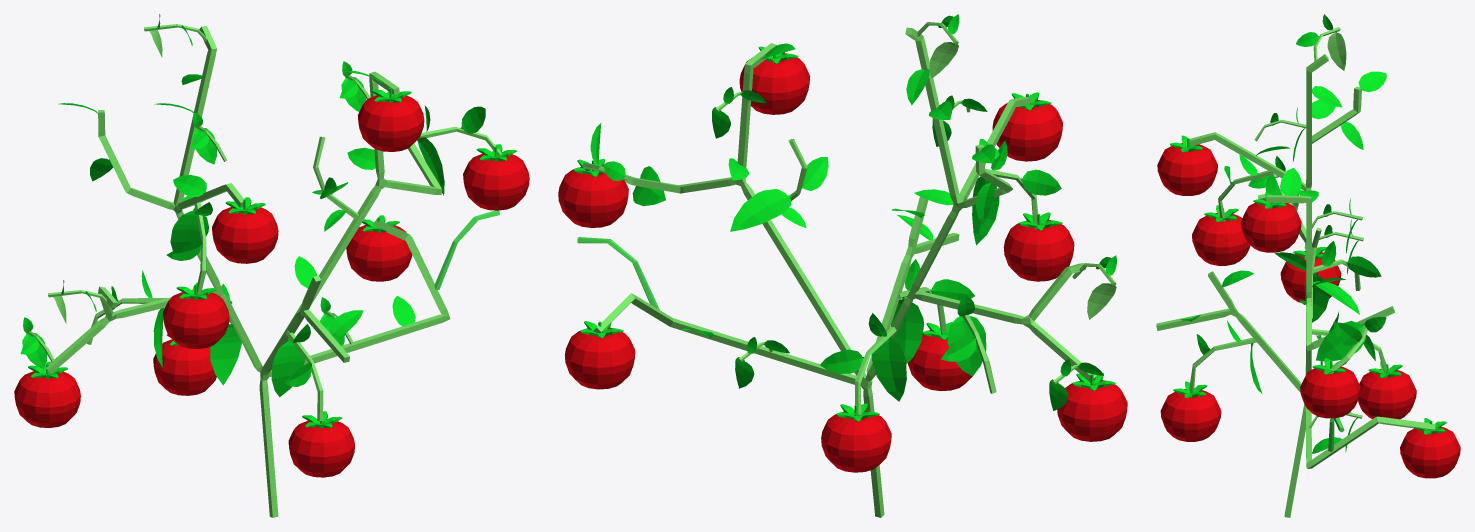
File: CherryTomato.fbx
3 views of the same model, side by side, from view 1: azimuth 30°, elevation 25°; view 2: azimuth 150°, elevation 25°; view 3: azimuth 270°, elevation 25° (orthographic). The views are drawn at different scales.
Parts seen in each view (by area): view 1: Tomatoes X branch; view 2: Tomatoes X branch; view 3: Tomatoes X branch.
Boxes of the visible parts, <box> form: Tomatoes X branch: <box>14,14,529,517</box>; Tomatoes X branch: <box>558,14,1127,517</box>; Tomatoes X branch: <box>1156,14,1460,517</box>.
Size of the model in its own units: 652 by 617 by 369.
